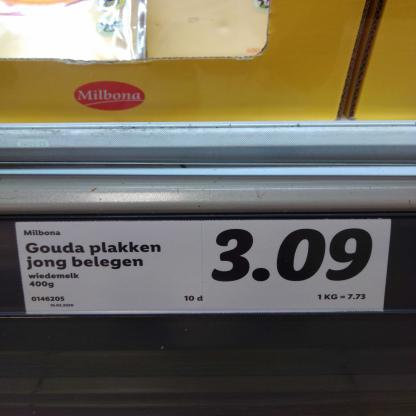prtg: (16, 220, 393, 316)
